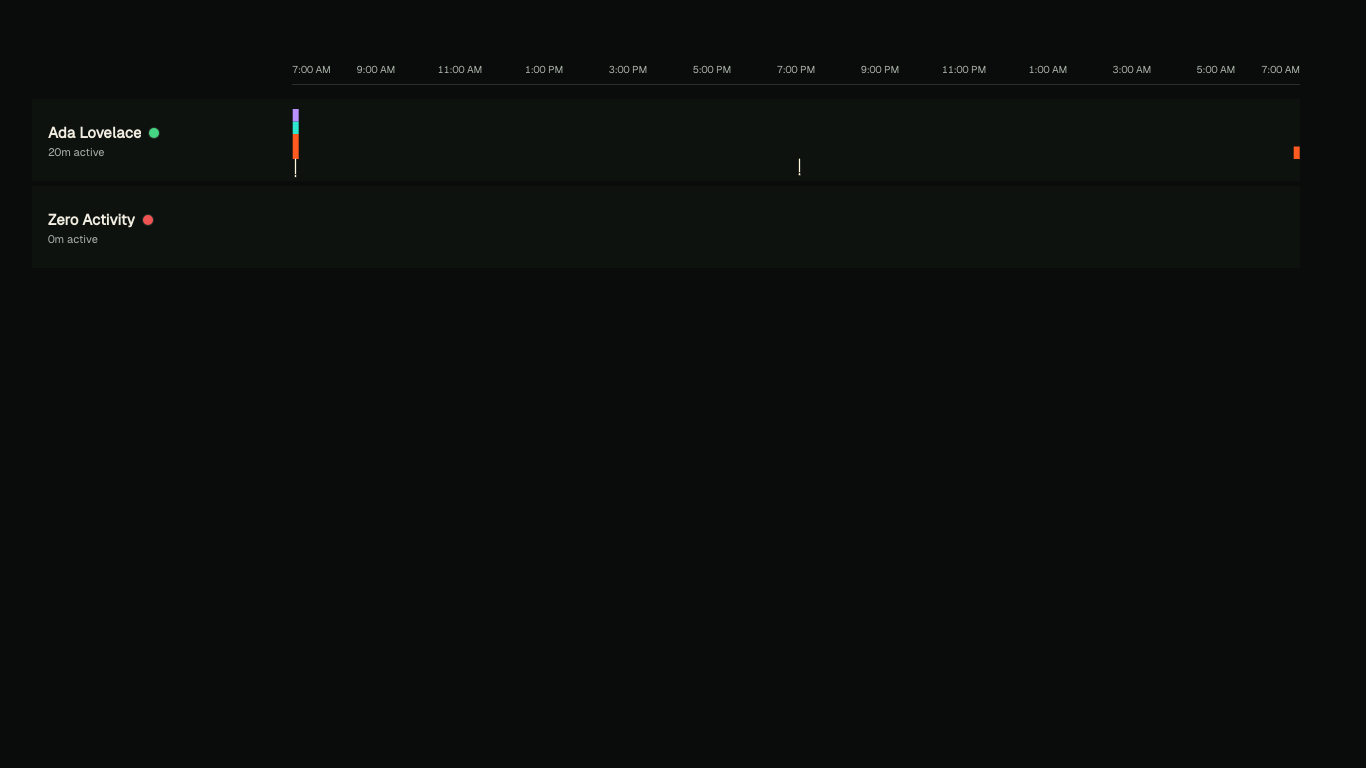
Test: FlameGraph › explains interval failure flame_database_timeout
Click the 1st element with class "recharts-wrapper" at coordinates (796, 140), box [292,99,1300,181]
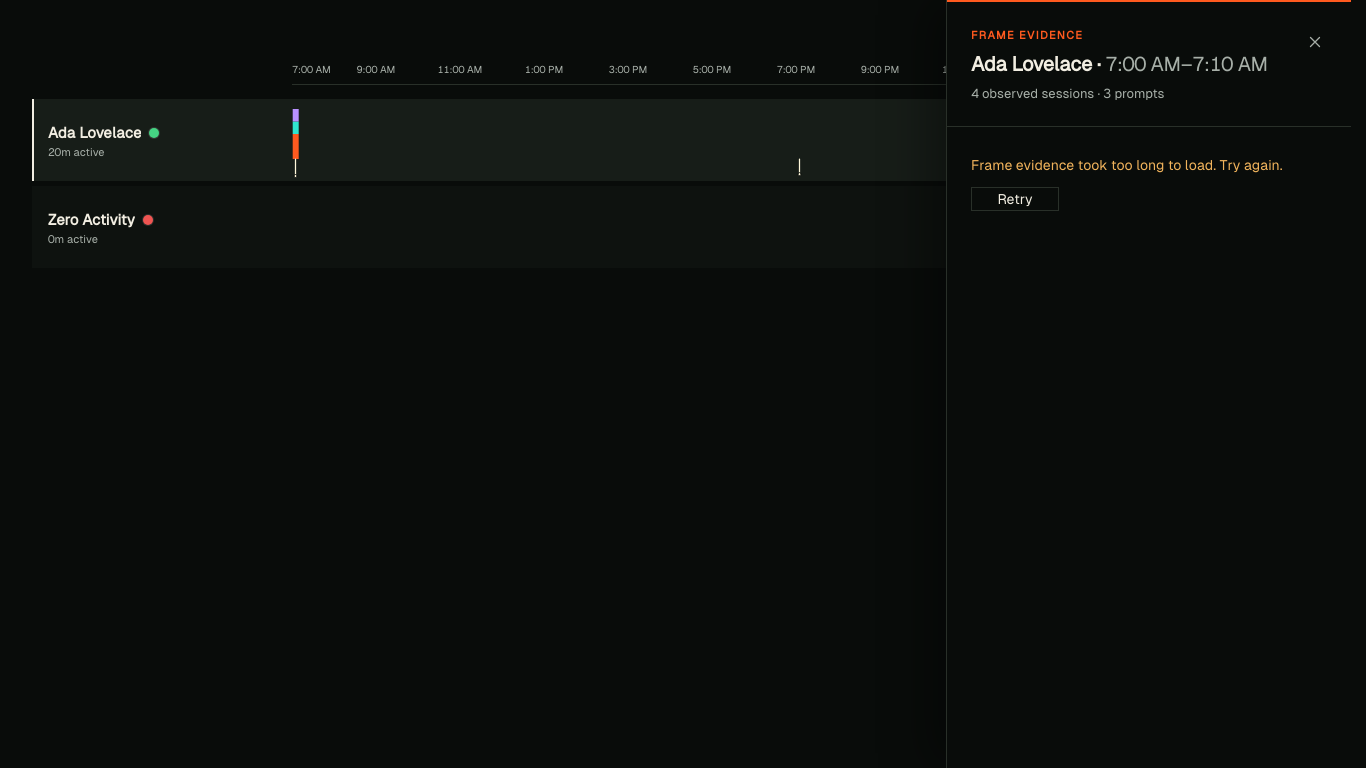
Expected: the message shows "Frame evidence took too long to load", [971,157,1282,173]
